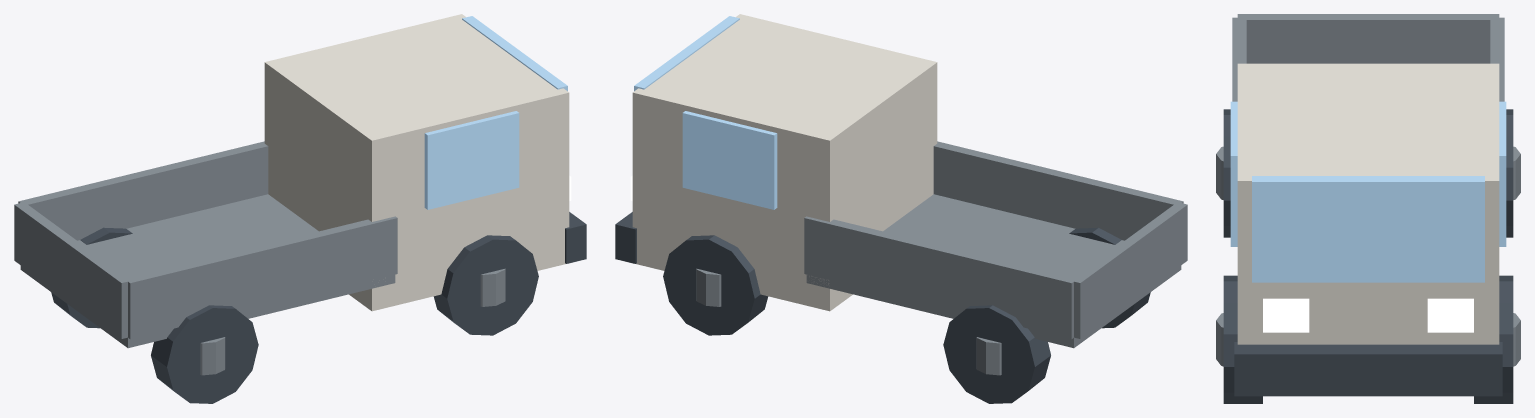
File: veh_keitruck.glb
The picture shows the model from 3 angles, left to right: view 1: azimuth 30°, elevation 25°; view 2: azimuth 150°, elevation 25°; view 3: azimuth 270°, elevation 25°; orthographic projection. The views are drawn at different scales.
Parts seen in each view (by area): view 1: cab.002, bed_wall.004, bed_wall.005, bed_floor.002, bed_tail.002, side_win.008, wheel.052, wheel.050, windshield.006, bumper.006, wheel.053, hub.024 (+1 smaller); view 2: cab.002, bed_wall.005, bed_wall.004, bed_floor.002, bed_tail.002, side_win.009, wheel.053, wheel.051, windshield.006, bumper.006, wheel.052, hub.025 (+1 smaller); view 3: cab.002, windshield.006, bumper.006, bed_tail.002, wheel.050, wheel.051, headlight.010, headlight.011, side_win.008, side_win.009, wheel.052, wheel.053 (+6 smaller).
Boxes of the visible parts, x1,y1,x2,y2 form: cab.002: (264,14,569,311); bed_wall.004: (128,216,397,339); bed_wall.005: (18,141,268,240); bed_floor.002: (20,194,395,348); bed_tail.002: (14,203,131,338); side_win.008: (424,111,519,209); wheel.052: (151,305,258,403); wheel.050: (433,235,538,335); windshield.006: (462,16,567,91); bumper.006: (565,212,586,263); wheel.053: (51,227,132,328); hub.024: (480,268,505,306); cab.002: (632,14,937,311); bed_wall.005: (804,216,1073,339); bed_wall.004: (933,141,1183,240); bed_floor.002: (806,194,1181,348); bed_tail.002: (1070,203,1187,338); side_win.009: (682,111,777,209); wheel.053: (943,305,1050,403); wheel.051: (663,235,768,335); windshield.006: (634,16,739,91); bumper.006: (615,212,636,263); wheel.052: (1069,227,1150,328); hub.025: (696,268,721,306); cab.002: (1237,63,1499,344); windshield.006: (1252,176,1484,282); bumper.006: (1234,342,1502,396); bed_tail.002: (1237,14,1499,63); wheel.050: (1223,275,1262,403); wheel.051: (1474,275,1513,403); headlight.010: (1263,298,1309,332); headlight.011: (1427,298,1473,332); side_win.008: (1230,101,1237,246); side_win.009: (1499,101,1506,246); wheel.052: (1223,109,1230,237); wheel.053: (1506,109,1513,237).
Size of the model in its own units: 3.64 by 1.65 by 1.7.
